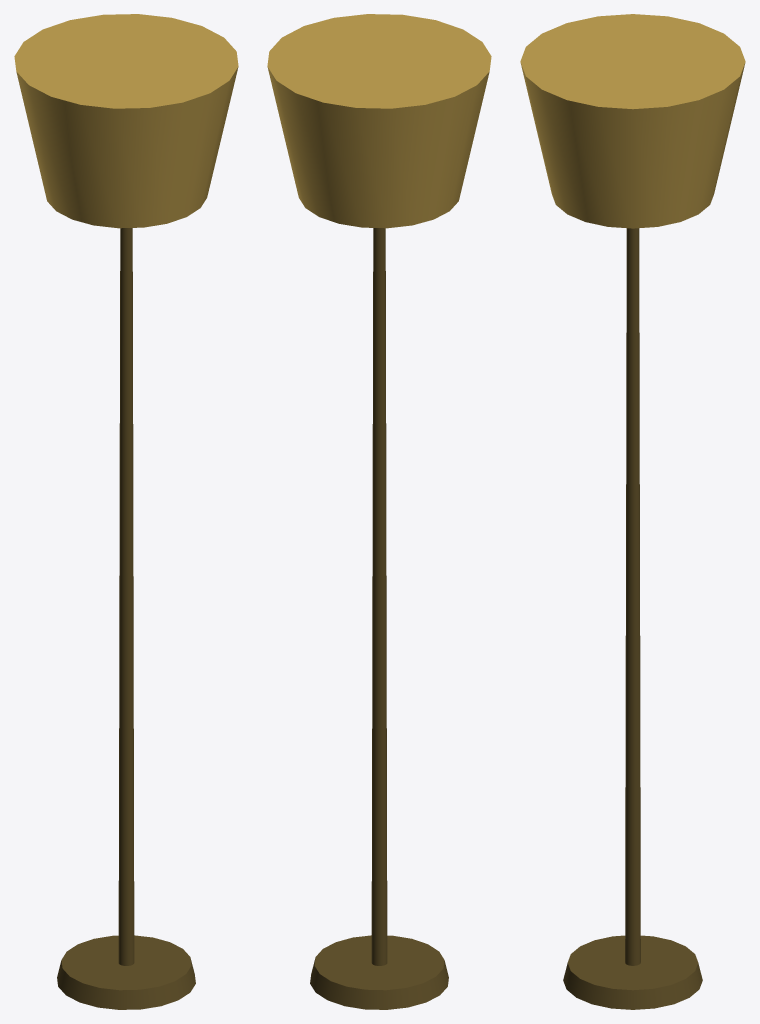
File: lamp_arc_floor.glb
3 renders of one model, left to right at view 1: azimuth 30°, elevation 25°; view 2: azimuth 150°, elevation 25°; view 3: azimuth 270°, elevation 25°, orthographic.
Parts seen in each view (by area): view 1: furniture; view 2: furniture; view 3: furniture.
Part boxes in pixels (x1,y1,x2,y2): furniture: (14, 14, 238, 1009); furniture: (267, 14, 491, 1009); furniture: (520, 14, 745, 1009).
Bounding box in the file's own units: 0.4 × 1.8 × 0.4.
